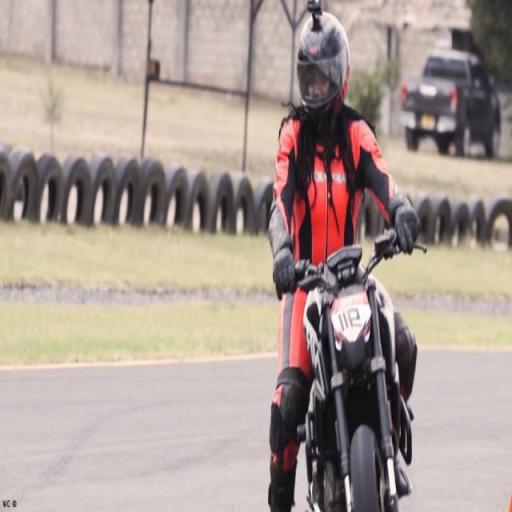Helmet: (268, 0, 358, 143)
Motor: (258, 228, 426, 512)
